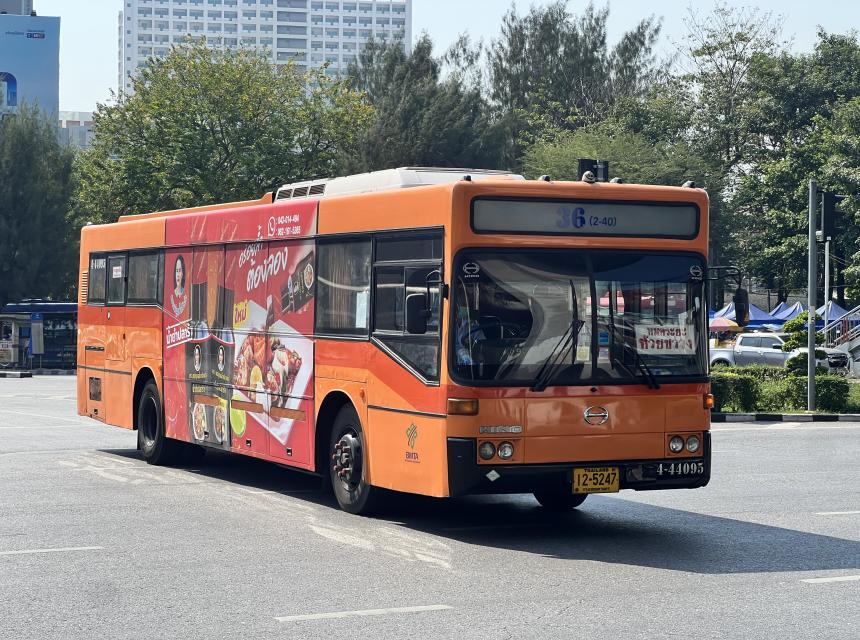BMTA-bus: (74, 161, 719, 515)
Bus Line Number: (548, 202, 624, 232)
Bus Side Number: (654, 462, 707, 478)
Destination Sign: (635, 324, 696, 357)
